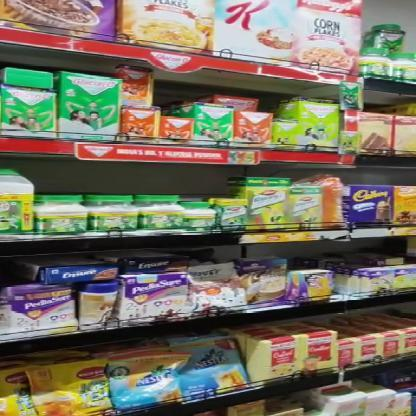Glucon D Nimbu Pani 1-KG: (306, 103, 344, 149)
Glucon D Regular 1-KG: (64, 78, 122, 140), (2, 91, 57, 134)
